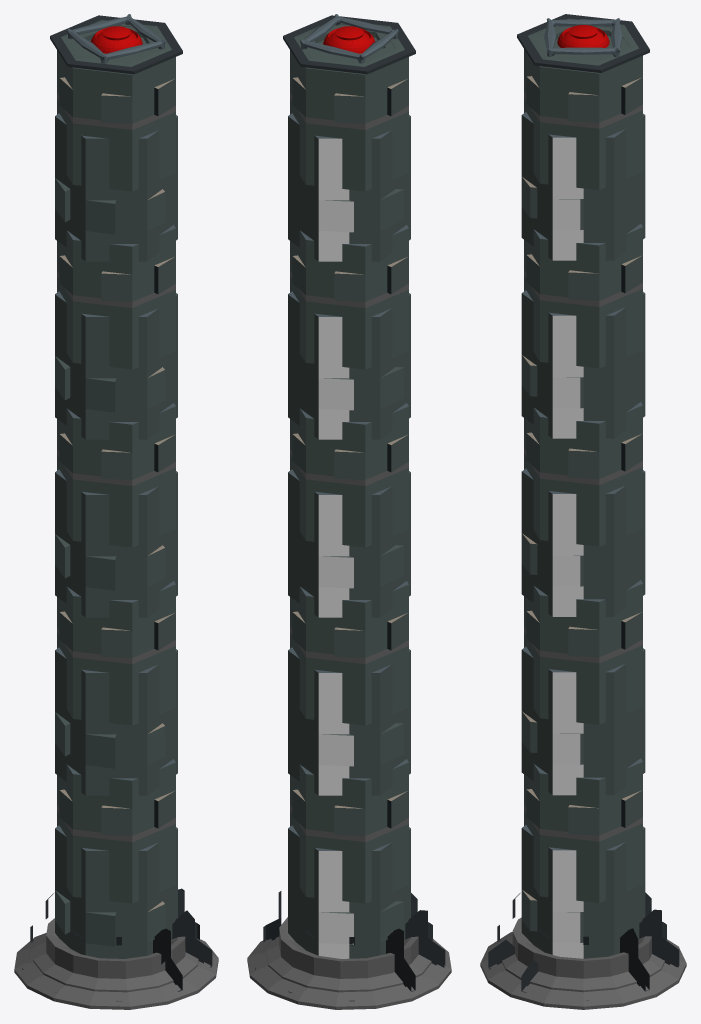
File: building_69.fbx
3 renders of one model, left to right at view 1: azimuth 30°, elevation 25°; view 2: azimuth 150°, elevation 25°; view 3: azimuth 270°, elevation 25°, orthographic.
Visible parts, largest first — view 1: building_69; view 2: building_69; view 3: building_69.
Boxes of the visible parts, left/top/right/bottom form: building_69: left=14, top=14, right=218, bottom=1009; building_69: left=247, top=14, right=451, bottom=1009; building_69: left=480, top=14, right=686, bottom=1009.
Bounding box in the file's own units: 797 × 4002 × 797.
